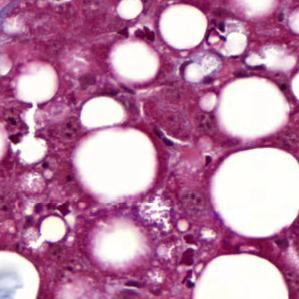steatosis: (210, 146, 299, 240), (192, 253, 290, 299), (160, 5, 206, 49)
